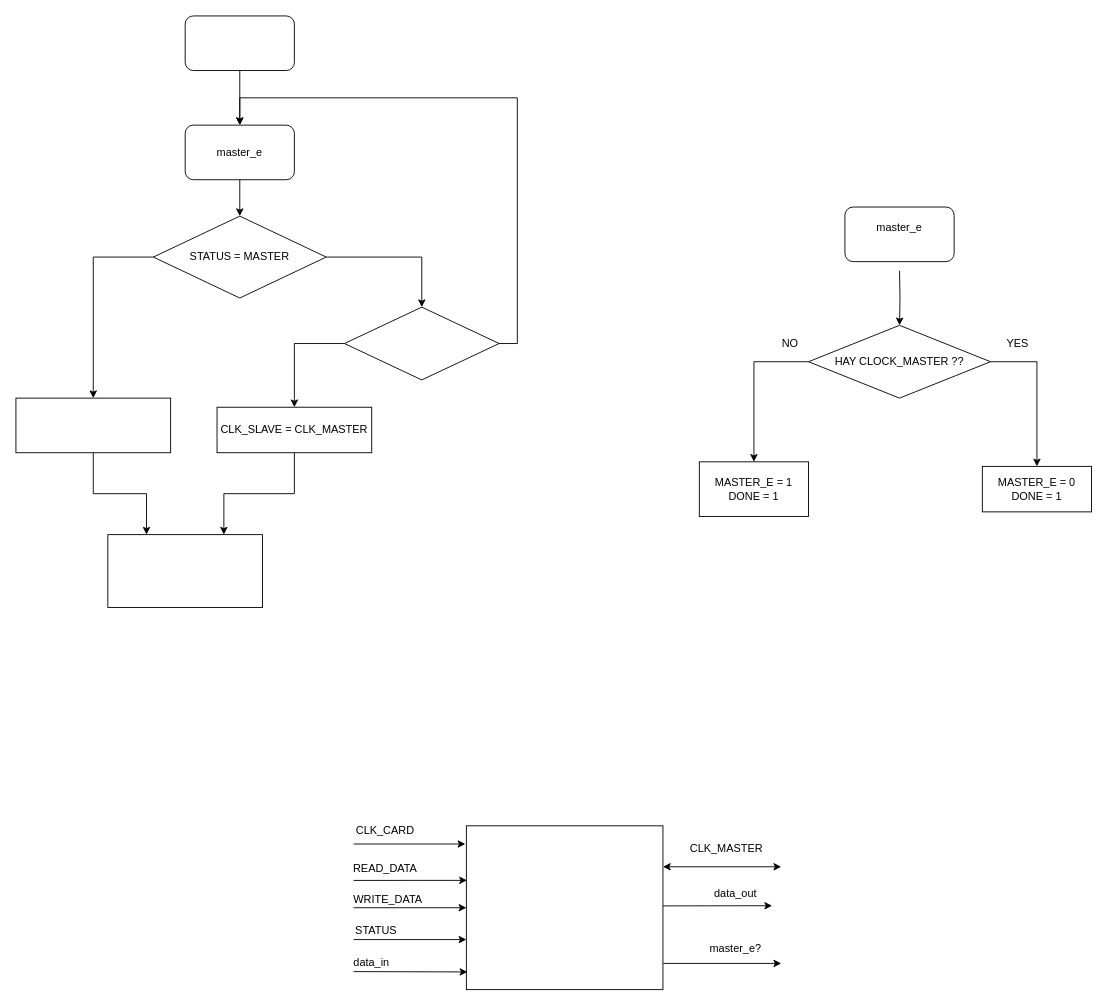
Some shapes in this 1107 by 1006 pixel diagram are drawn without their labels. The shapes that lost their labels are listed below. From the top down, each one's centre as x and y in pixels, then its label:
At [239,43]: "COMUNICATION".
At [421,343]: "STATUS = SLAVE".
At [93,425]: "CLK_MASTER = CLK_CARD".
